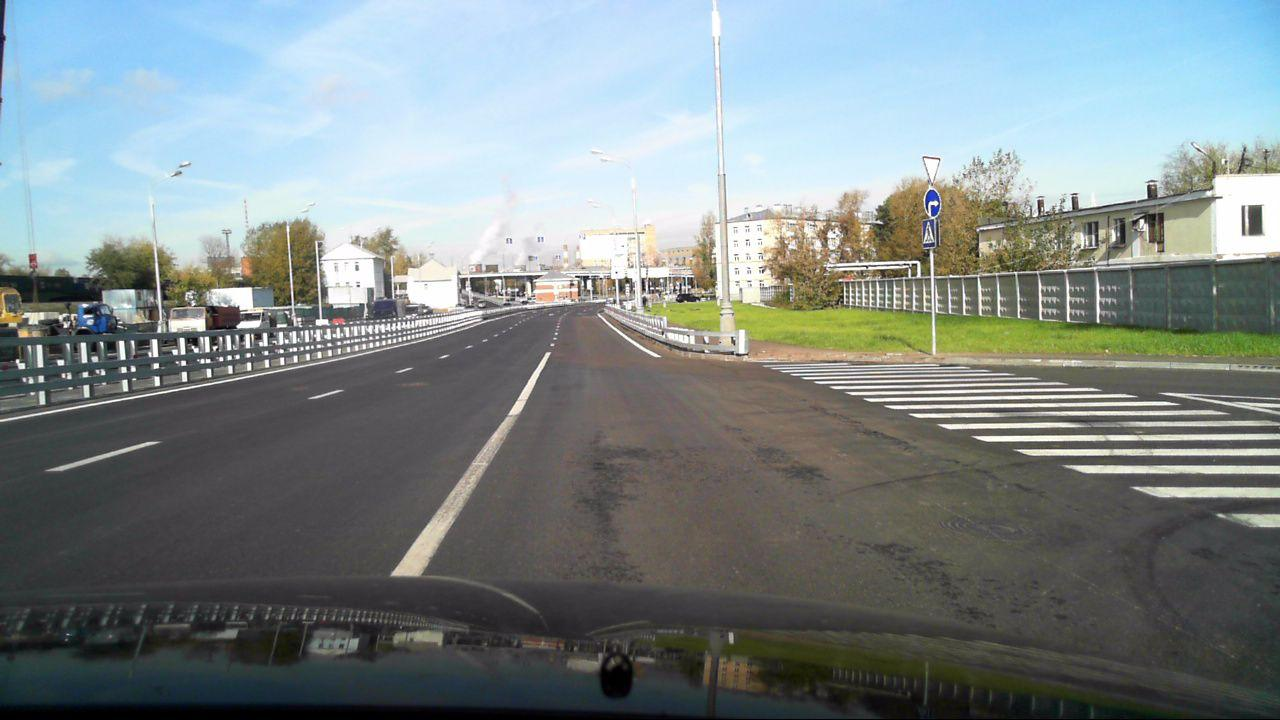2_4: (923, 155, 941, 185)
4_1_2: (923, 187, 943, 218)
5_15_2: (537, 236, 544, 242), (506, 238, 512, 244)
5_19_2: (922, 220, 937, 249)
